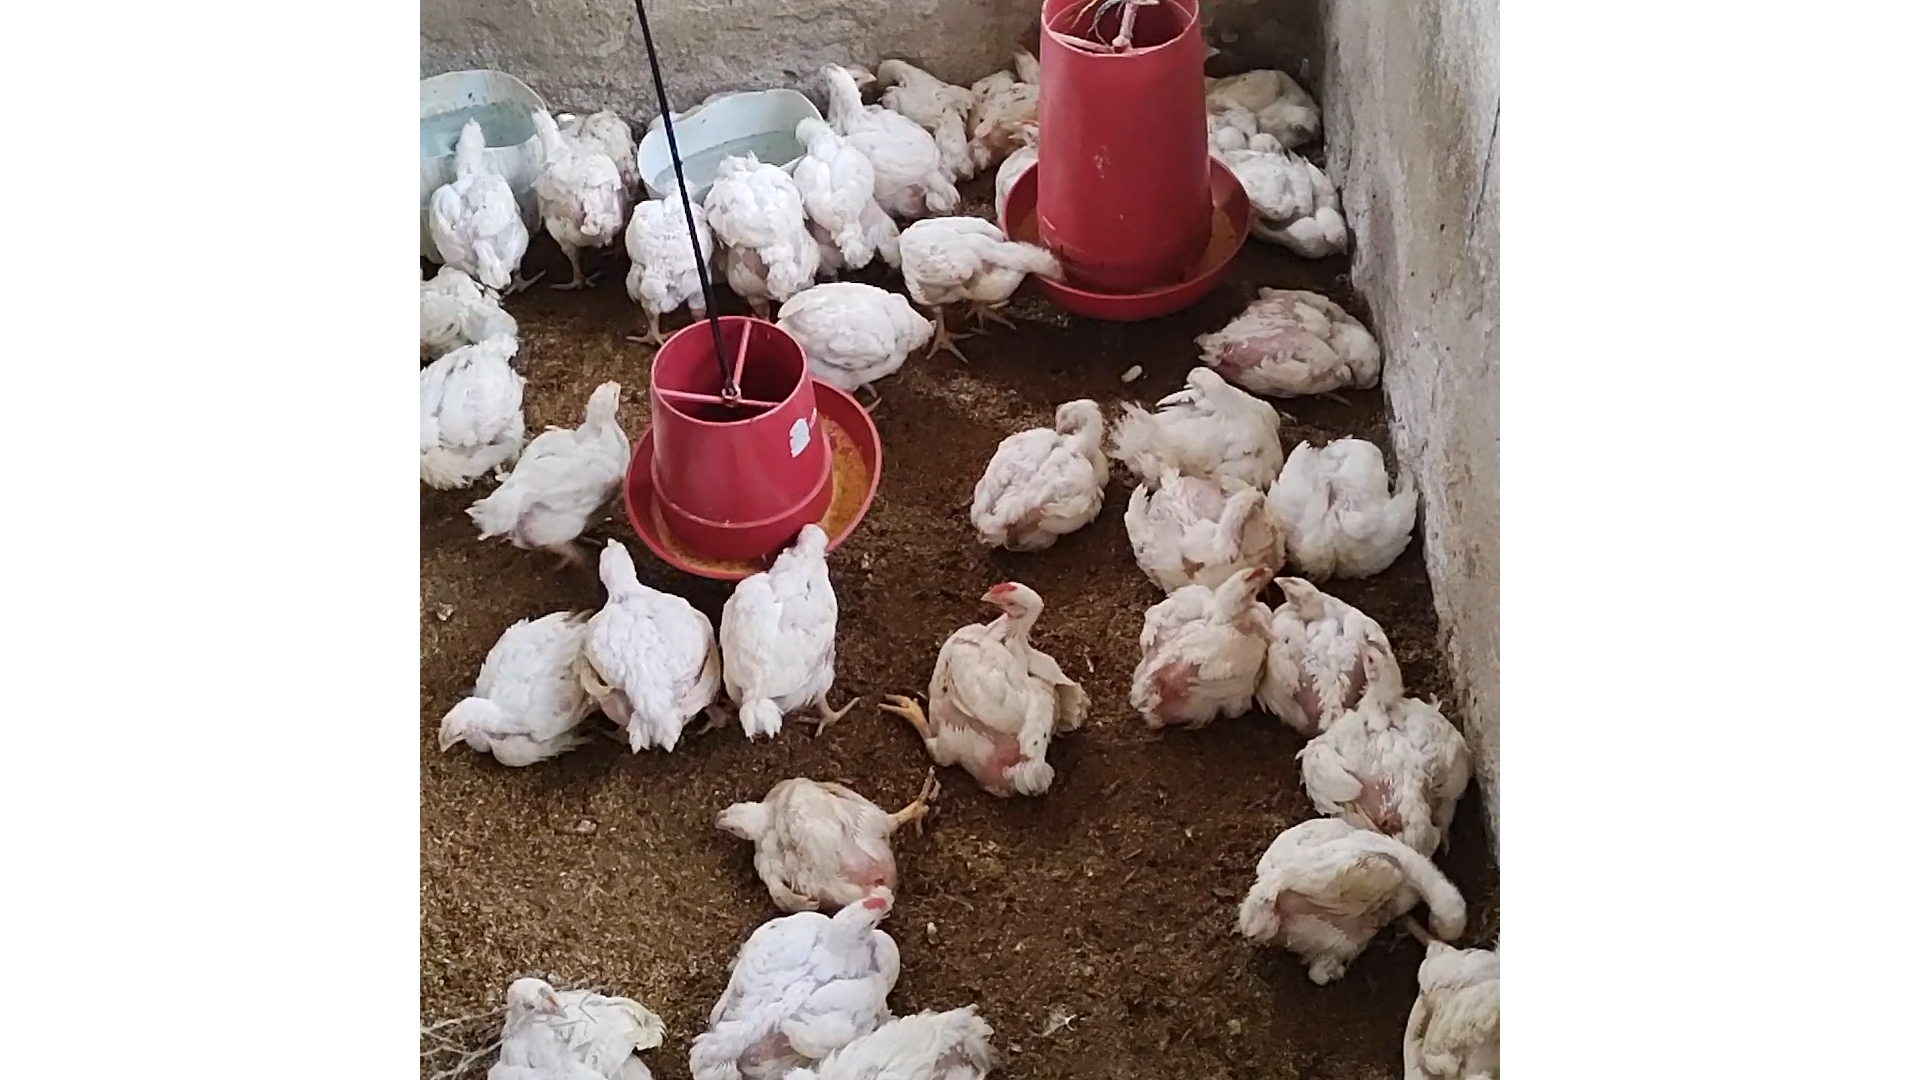Pollos: (882, 576, 1095, 808), (1215, 804, 1470, 984), (680, 885, 909, 1079), (704, 762, 947, 922), (1294, 632, 1466, 844), (464, 372, 640, 563), (576, 529, 729, 745), (720, 516, 864, 744), (429, 603, 622, 758), (1121, 559, 1275, 731), (1254, 560, 1403, 728), (520, 98, 645, 291), (1189, 274, 1385, 398), (1265, 426, 1427, 574), (967, 386, 1109, 551), (1113, 367, 1296, 488), (816, 50, 959, 206), (894, 211, 1065, 340), (771, 276, 943, 404), (705, 149, 836, 316), (431, 109, 543, 298), (1120, 455, 1273, 584), (421, 328, 527, 502), (618, 171, 729, 336), (814, 994, 1017, 1080), (1217, 142, 1352, 266), (489, 976, 649, 1080), (790, 117, 905, 260), (889, 46, 998, 171), (1191, 59, 1331, 156), (413, 243, 524, 352)
